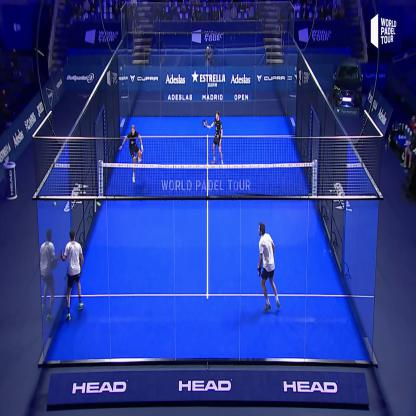ball: (95, 199, 104, 213)
